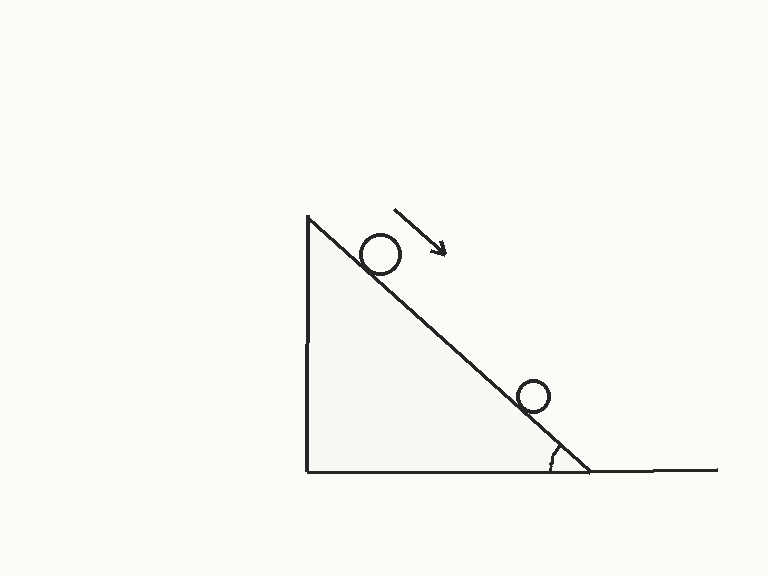ball: (357, 231, 403, 277), (514, 377, 552, 415)
ramp: (305, 214, 592, 473)
